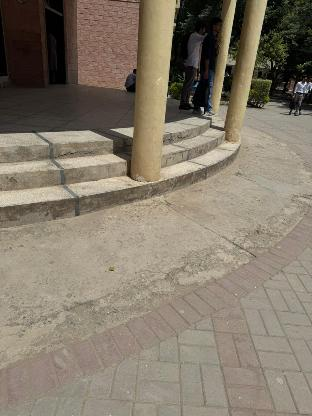stair: (1, 110, 244, 217)
